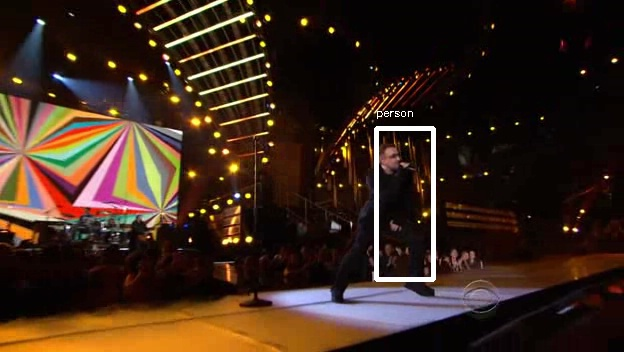person: (353, 144, 422, 255), (350, 144, 419, 255), (356, 144, 425, 255), (353, 141, 422, 252), (353, 147, 422, 258)
target_negative: (99, 130, 612, 340), (162, 210, 614, 249), (561, 237, 617, 321), (156, 328, 505, 332), (464, 222, 529, 237), (297, 165, 300, 340)
